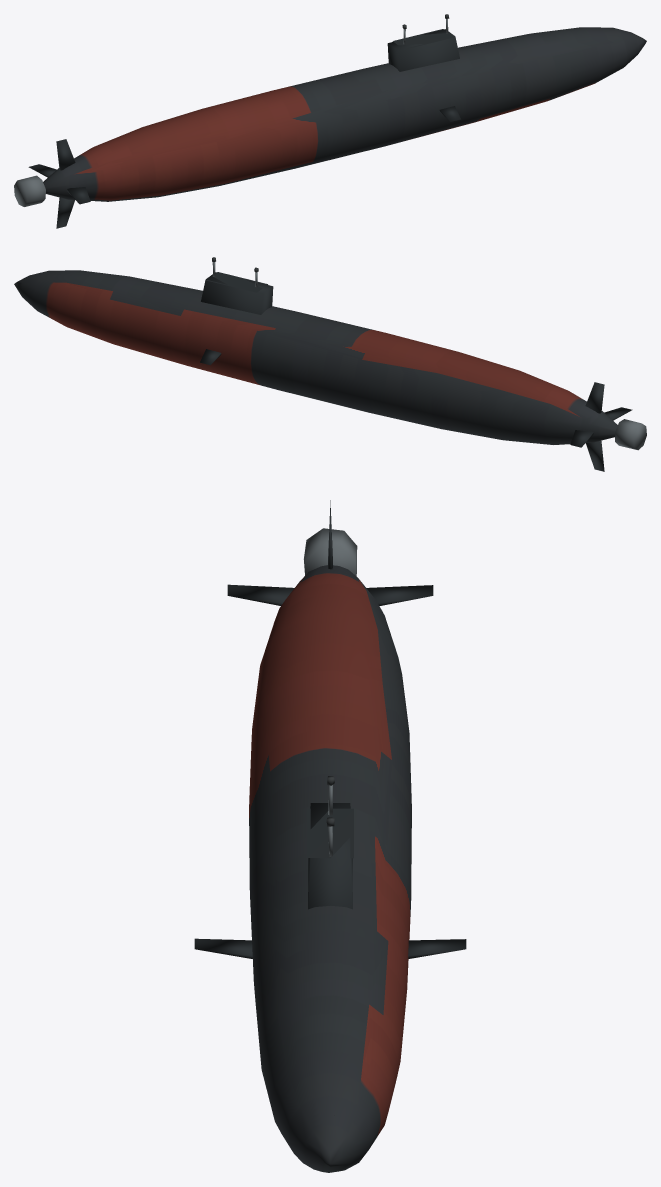
The model's file is UK_SSN_Astute_LOD3.fbx.
3 renders of one model, top to bottom at view 1: azimuth 30°, elevation 25°; view 2: azimuth 150°, elevation 25°; view 3: azimuth 270°, elevation 25°, orthographic. The views are drawn at different scales.
Parts seen in each view (by area): view 1: UK_SSN_Astute_LOD3; view 2: UK_SSN_Astute_LOD3; view 3: UK_SSN_Astute_LOD3.
Part boxes in pixels (x1,y1,x2,y2): UK_SSN_Astute_LOD3: (14,14,646,228); UK_SSN_Astute_LOD3: (14,257,646,471); UK_SSN_Astute_LOD3: (194,500,466,1172).
Size of the model in its own units: 100 by 18.83 by 18.13.
6 materials, 1 textured.
